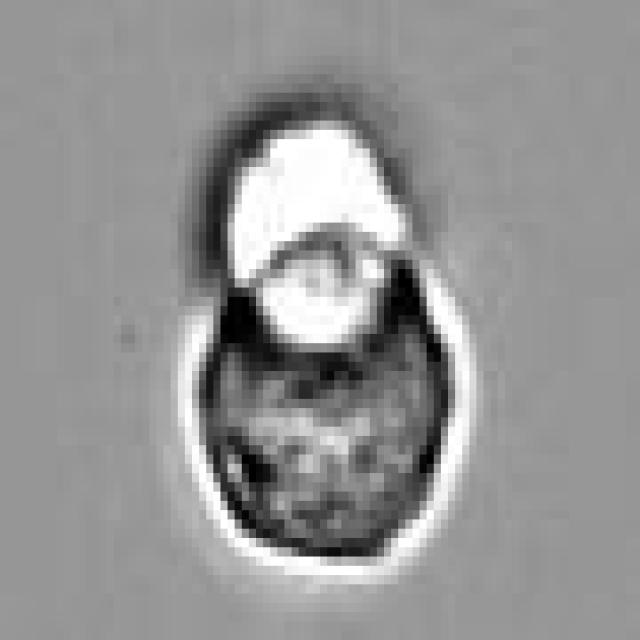Cancer Cell: (192, 222, 455, 566)
WBC: (220, 121, 398, 343)
